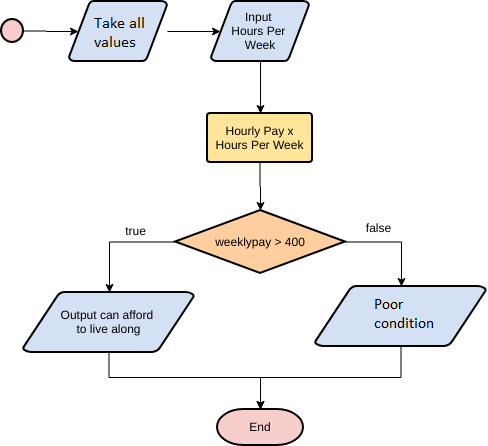arrow: (256, 345, 405, 413), (105, 350, 266, 411), (104, 240, 182, 296), (338, 238, 407, 288), (21, 26, 81, 38), (255, 59, 267, 115), (255, 158, 266, 210), (164, 26, 219, 36)
connection: (1, 15, 26, 44)
data: (18, 289, 196, 355), (312, 283, 488, 349), (66, 1, 171, 65), (208, 1, 312, 64)
decision: (171, 208, 350, 276)
process: (202, 110, 314, 165)
terminator: (215, 406, 308, 446)
text: (58, 308, 156, 338), (214, 125, 304, 152), (229, 10, 288, 50), (371, 296, 436, 331), (92, 16, 149, 48), (212, 235, 307, 248), (364, 221, 392, 234), (246, 420, 272, 432), (122, 226, 147, 235)
